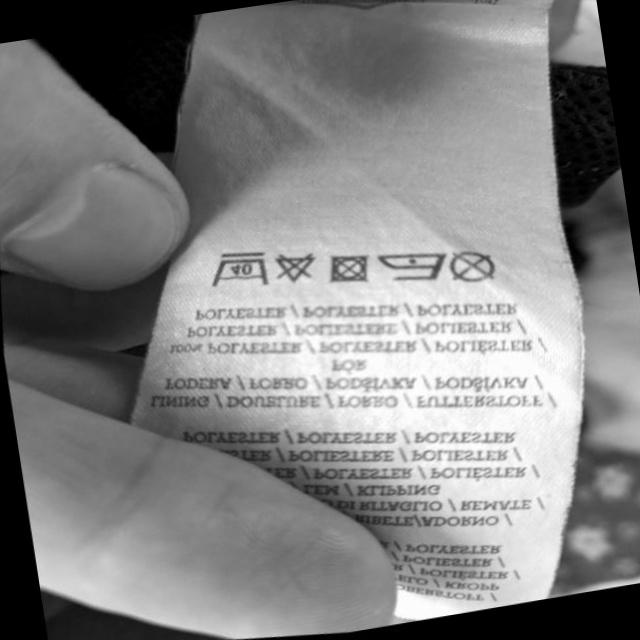40C: (210, 245, 271, 294)
DN_bleach: (273, 248, 321, 289)
DN_dry_clean: (450, 241, 498, 286)
DN_tumble_dry: (324, 249, 375, 288)
iron_low: (377, 244, 451, 290)
